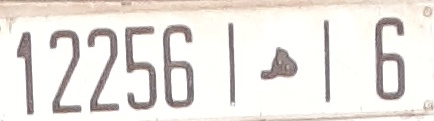1: (14, 30, 39, 116)
2: (47, 27, 86, 113), (86, 26, 121, 115)
5: (123, 23, 158, 111)
6: (160, 21, 198, 110), (372, 15, 408, 101)
h: (252, 45, 302, 85)
